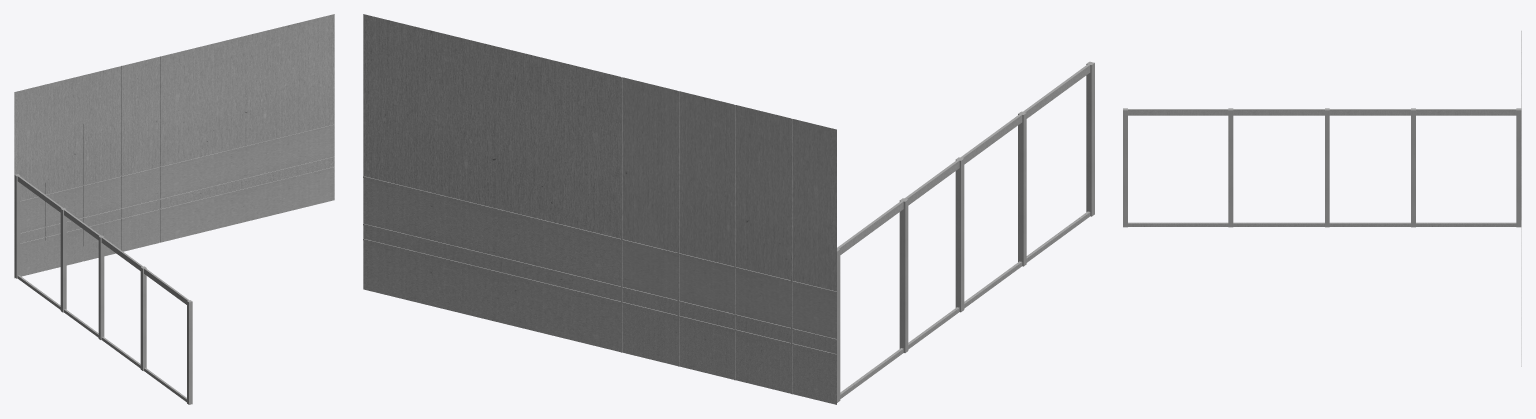
File: walls.obj
The picture shows the model from 3 angles, left to right: view 1: azimuth 30°, elevation 25°; view 2: azimuth 150°, elevation 25°; view 3: azimuth 270°, elevation 25°; orthographic projection. The views are drawn at different scales.
Parts seen in each view (by area): view 1: group1 house_interior:Plane003, house_interior:Box037 group1; view 2: group1 house_interior:Plane003, house_interior:Box037 group1; view 3: house_interior:Box037 group1.
Boxes of the visible parts, bbox=[...] form: group1 house_interior:Plane003: bbox=[14, 14, 334, 278]; house_interior:Box037 group1: bbox=[14, 174, 192, 404]; group1 house_interior:Plane003: bbox=[363, 14, 836, 404]; house_interior:Box037 group1: bbox=[836, 61, 1094, 402]; house_interior:Box037 group1: bbox=[1123, 108, 1521, 227].
Size of the model in its own units: 26.69 by 14.82 by 25.22.
1 material, 1 textured.
